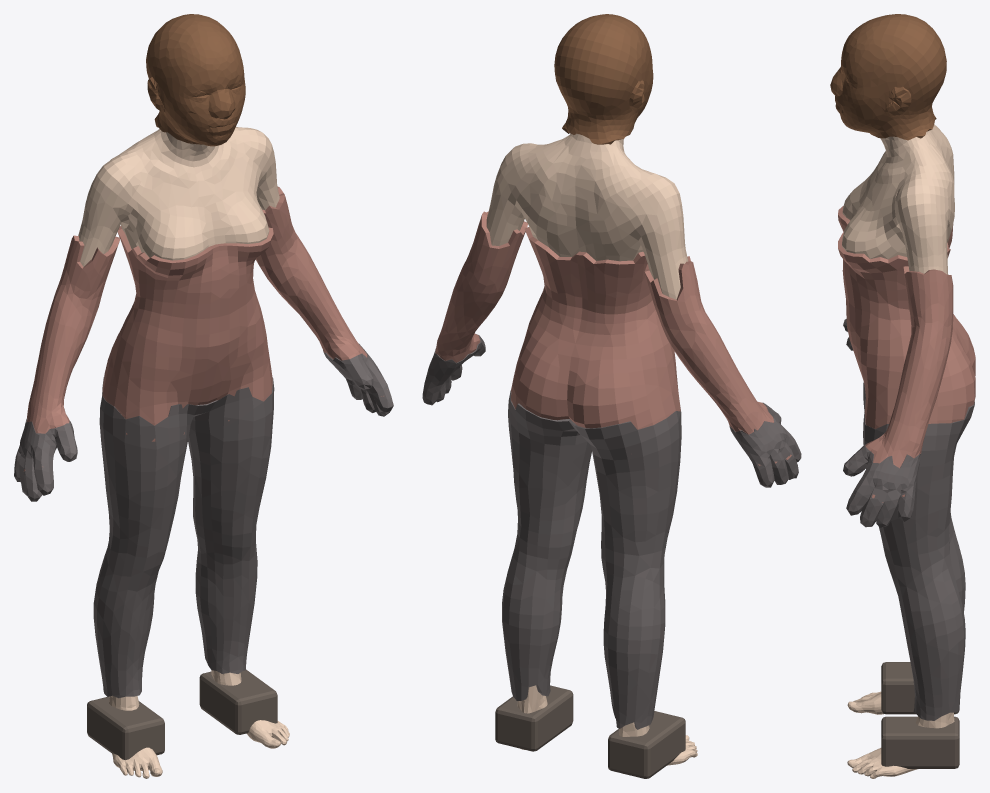
File: variant_female_tan.glb
3 views of the same model, side by side, from view 1: azimuth 30°, elevation 25°; view 2: azimuth 150°, elevation 25°; view 3: azimuth 270°, elevation 25° (orthographic).
Parts seen in each view (by area): view 1: PeriHuman; view 2: PeriHuman; view 3: PeriHuman.
Part boxes in pixels (left/top/right/bottom): PeriHuman: left=14, top=14, right=393, bottom=778; PeriHuman: left=422, top=14, right=801, bottom=778; PeriHuman: left=830, top=14, right=975, bottom=778.
Bounding box in the file's own units: 0.8639 × 1.66 × 0.3031.
